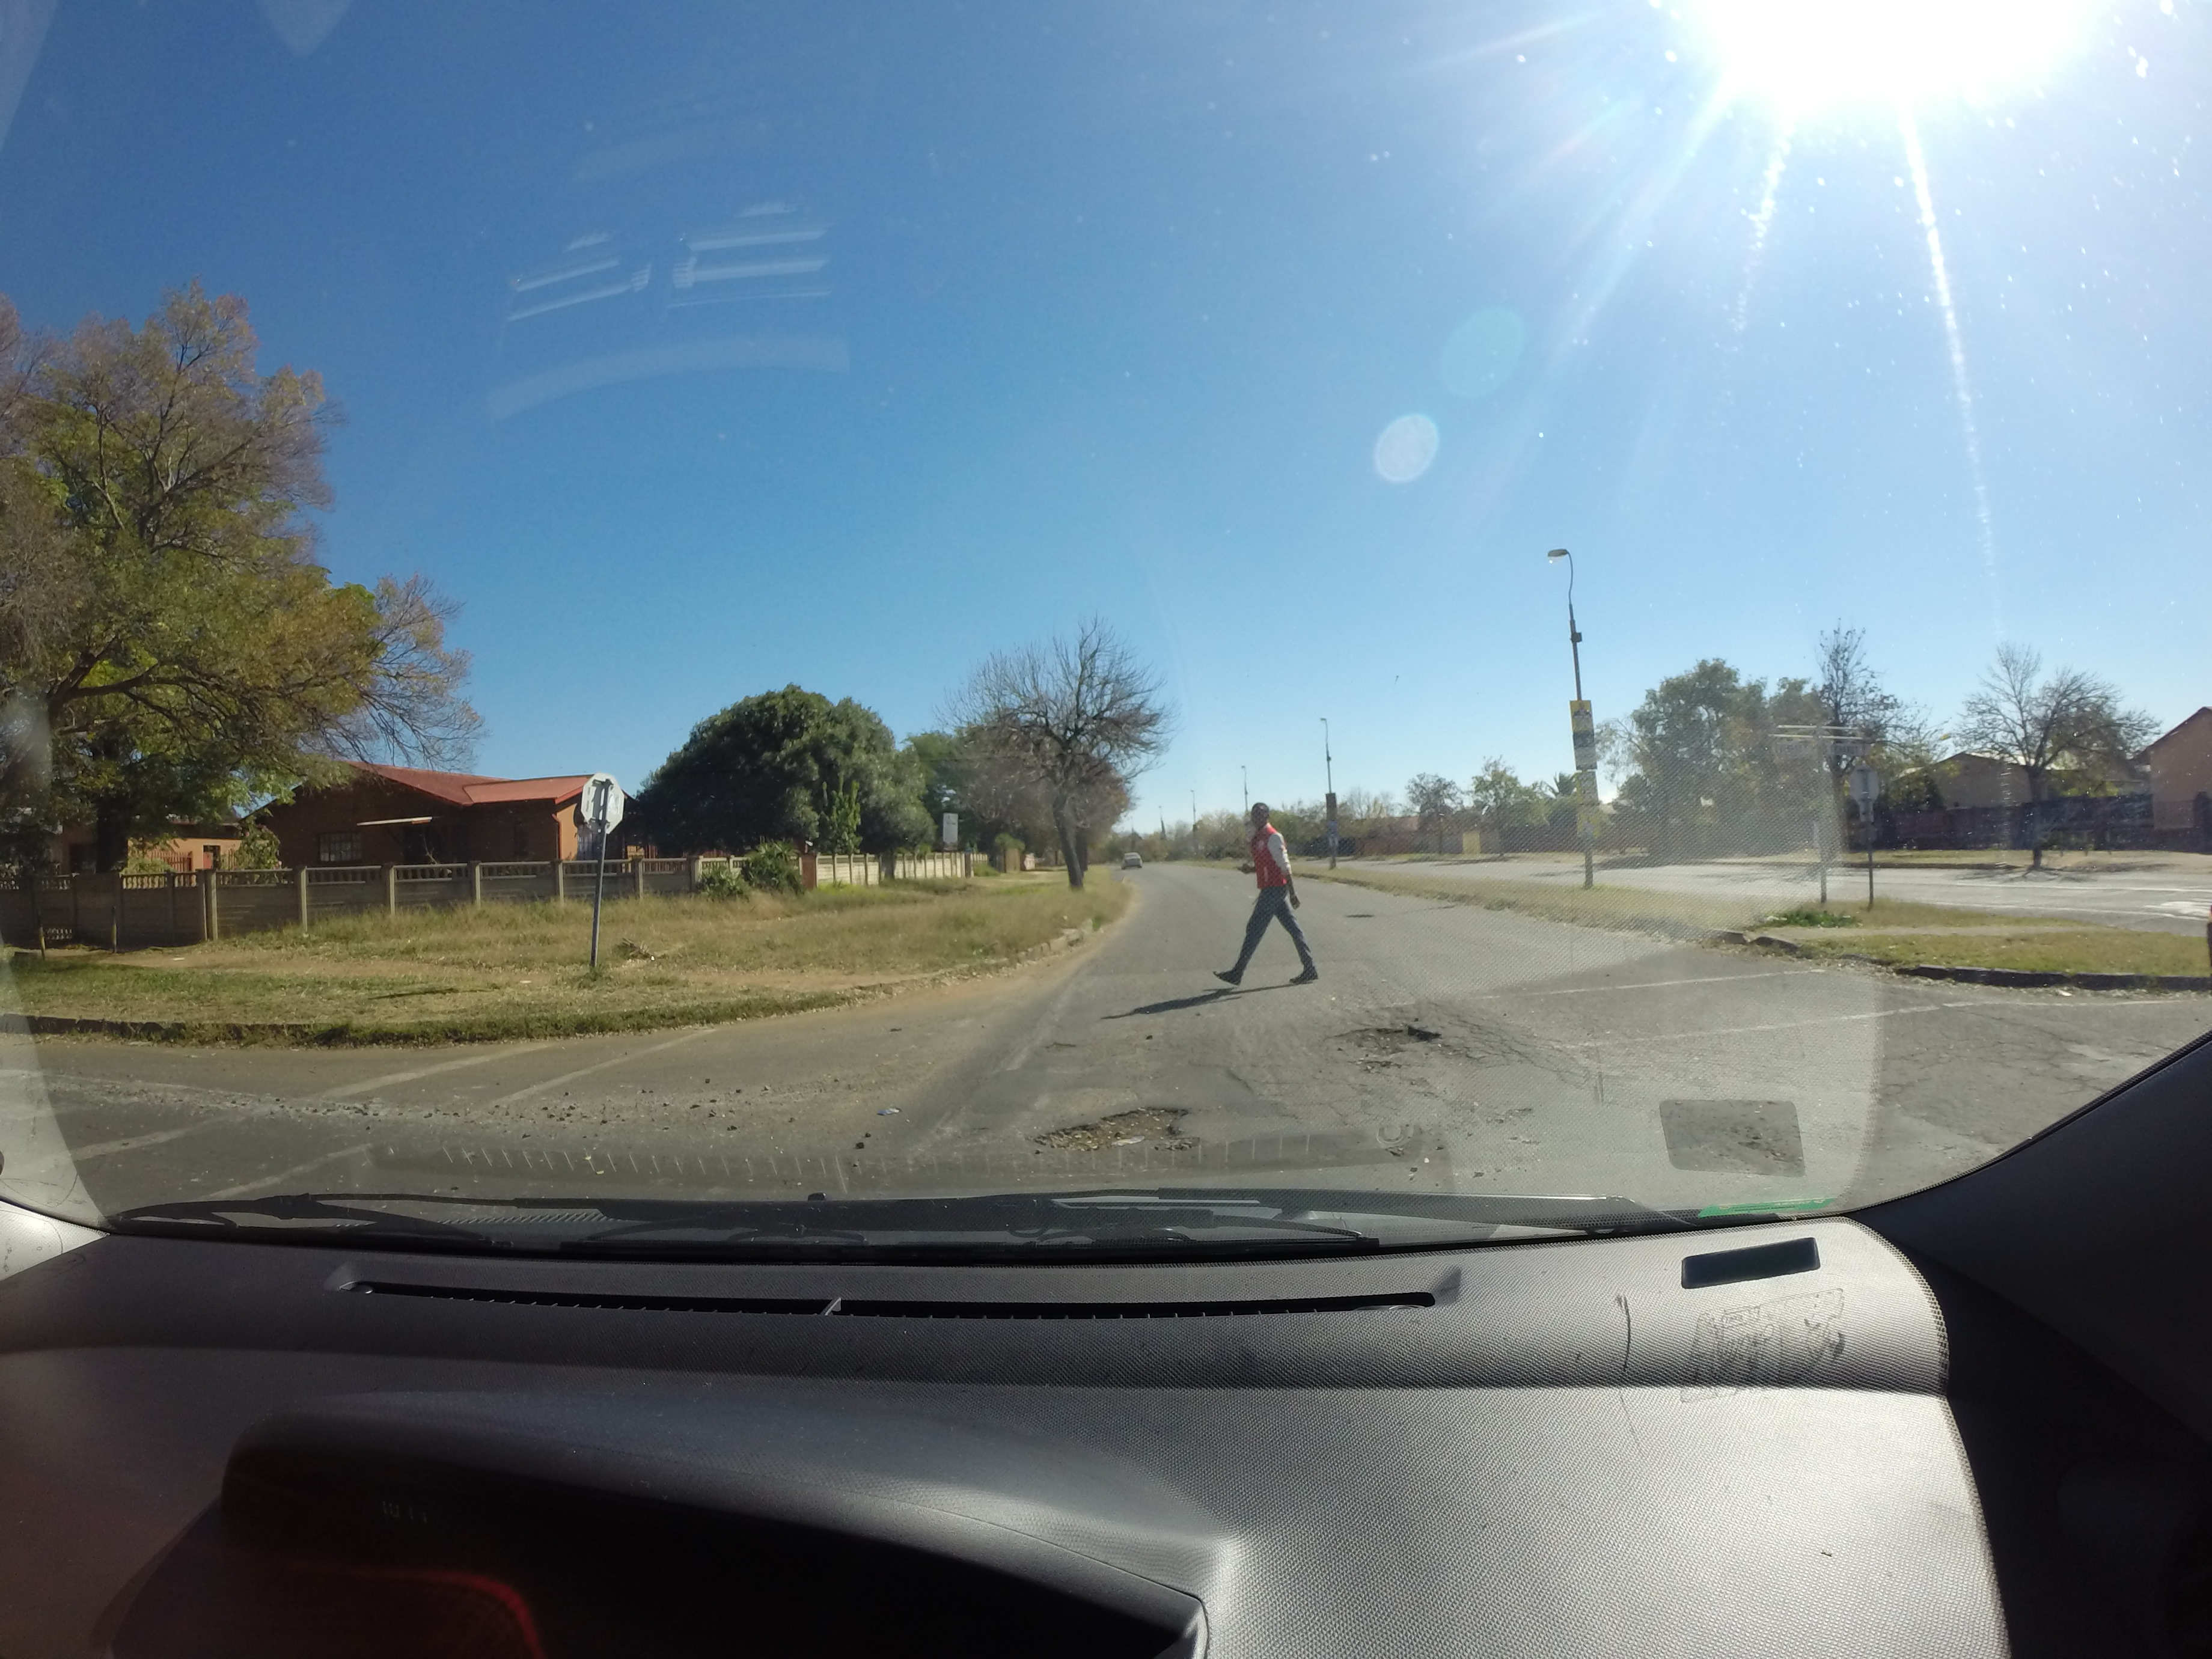pothole: (991, 1070, 1270, 1173), (1320, 1014, 1493, 1080)
